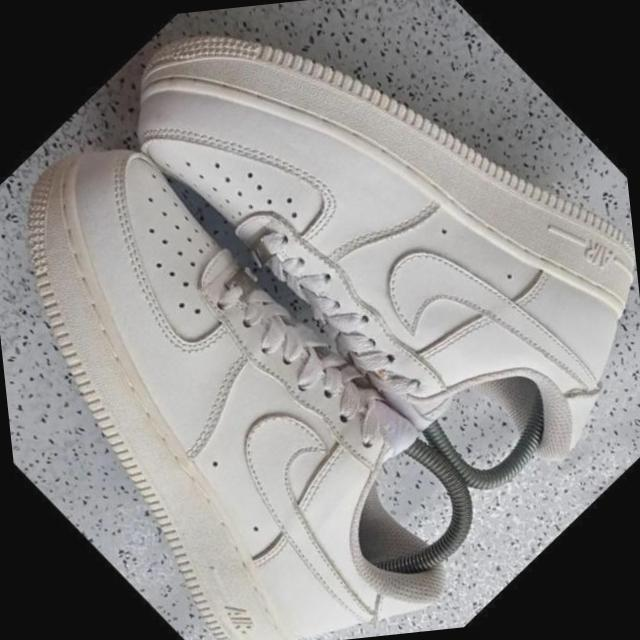nike_original_airforce: (84, 0, 640, 561), (0, 61, 527, 640)
